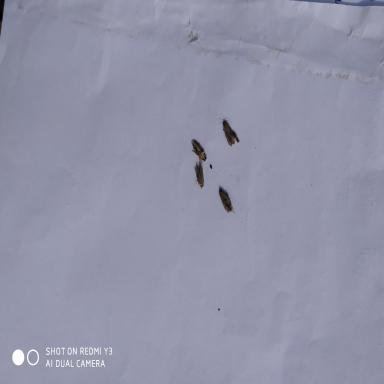pbw: (217, 116, 241, 150), (218, 184, 237, 215), (191, 134, 210, 164), (188, 161, 208, 189)
